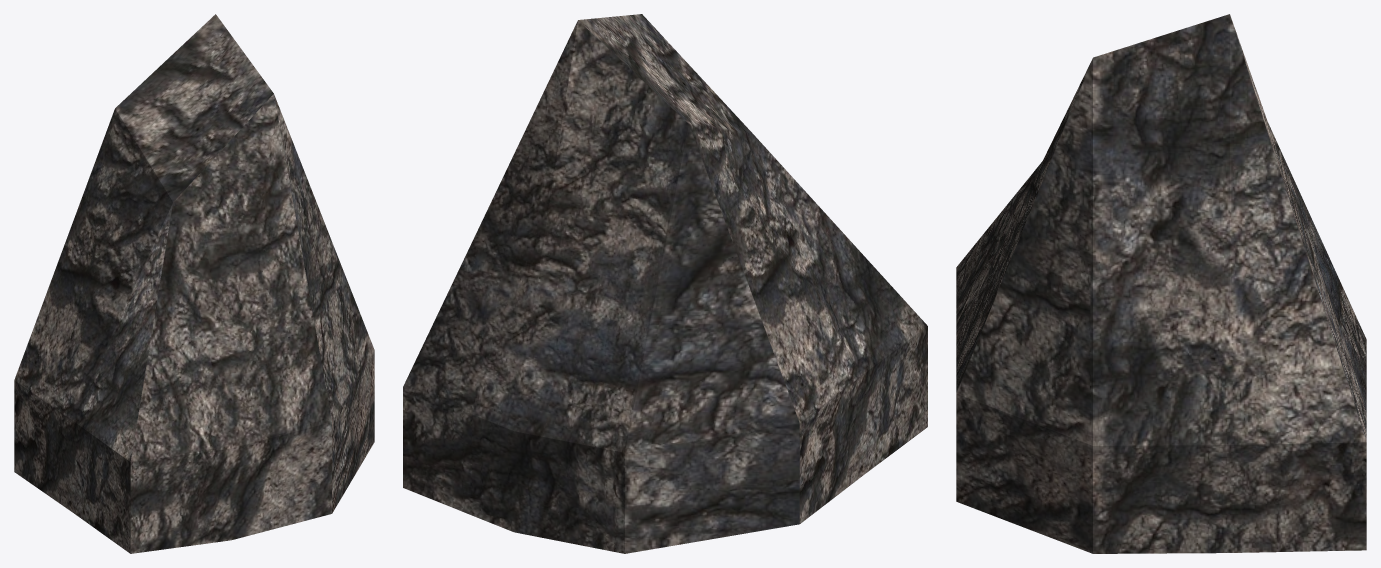
File: Stone_1.fbx
The picture shows the model from 3 angles, left to right: view 1: azimuth 30°, elevation 25°; view 2: azimuth 150°, elevation 25°; view 3: azimuth 270°, elevation 25°; orthographic projection. The views are drawn at different scales.
Parts seen in each view (by area): view 1: Stone_1; view 2: Stone_1; view 3: Stone_1.
Part boxes in pixels (<box>): Stone_1: <box>14,14,374,553</box>; Stone_1: <box>403,14,927,553</box>; Stone_1: <box>956,14,1366,553</box>.
Bounding box in the file's own units: 413 × 552 × 413.
